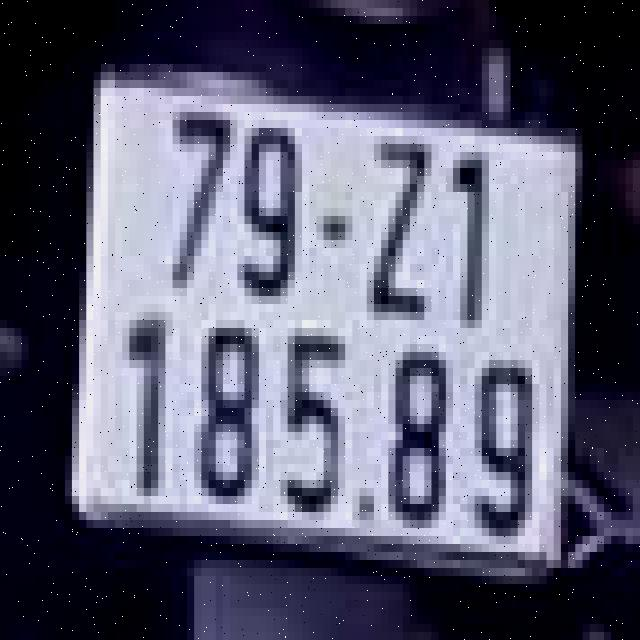1: (119, 308, 183, 500), (442, 148, 500, 332)
5: (284, 320, 356, 520)
7: (162, 100, 234, 300)
8: (384, 332, 456, 532), (202, 320, 274, 496)
9: (471, 356, 550, 540), (233, 112, 306, 304)
Z: (367, 124, 431, 324)
